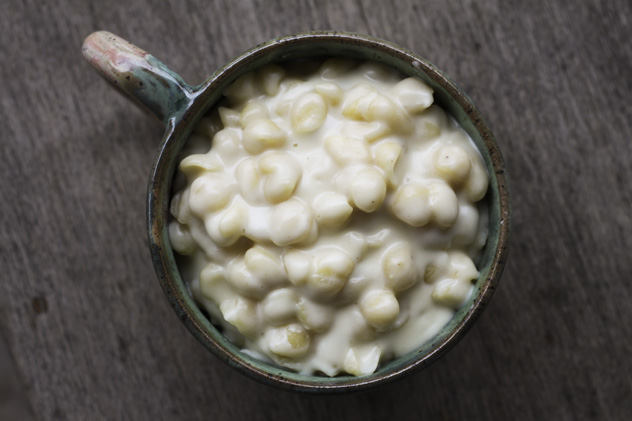macncheese: (170, 69, 491, 380)
